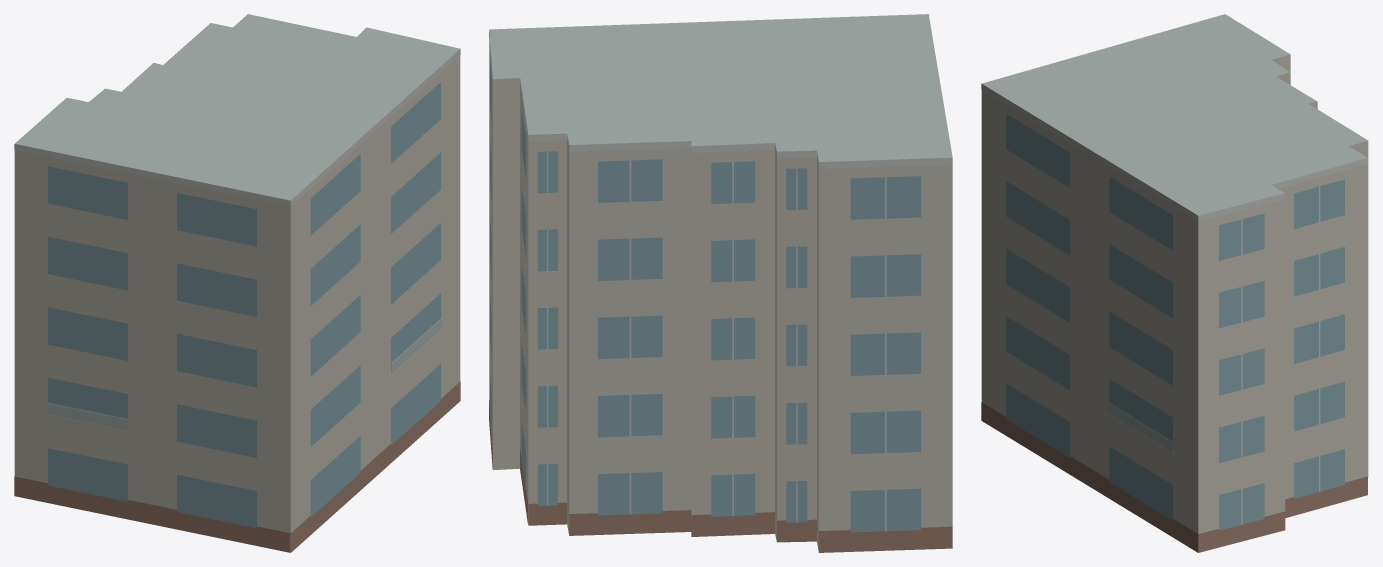
File: survey-upis-33027779.glb
The picture shows the model from 3 angles, left to right: view 1: azimuth 30°, elevation 25°; view 2: azimuth 150°, elevation 25°; view 3: azimuth 270°, elevation 25°; orthographic projection. The views are drawn at different scales.
Visible parts, largest first — view 1: survey-upis-33027779.tmp; view 2: survey-upis-33027779.tmp; view 3: survey-upis-33027779.tmp.
Boxes of the visible parts, x1=… form: survey-upis-33027779.tmp: x1=14, y1=14, x2=460, y2=552; survey-upis-33027779.tmp: x1=489, y1=14, x2=952, y2=552; survey-upis-33027779.tmp: x1=981, y1=14, x2=1368, y2=552.
Size of the model in its own units: 17.33 by 13.5 by 14.05.
